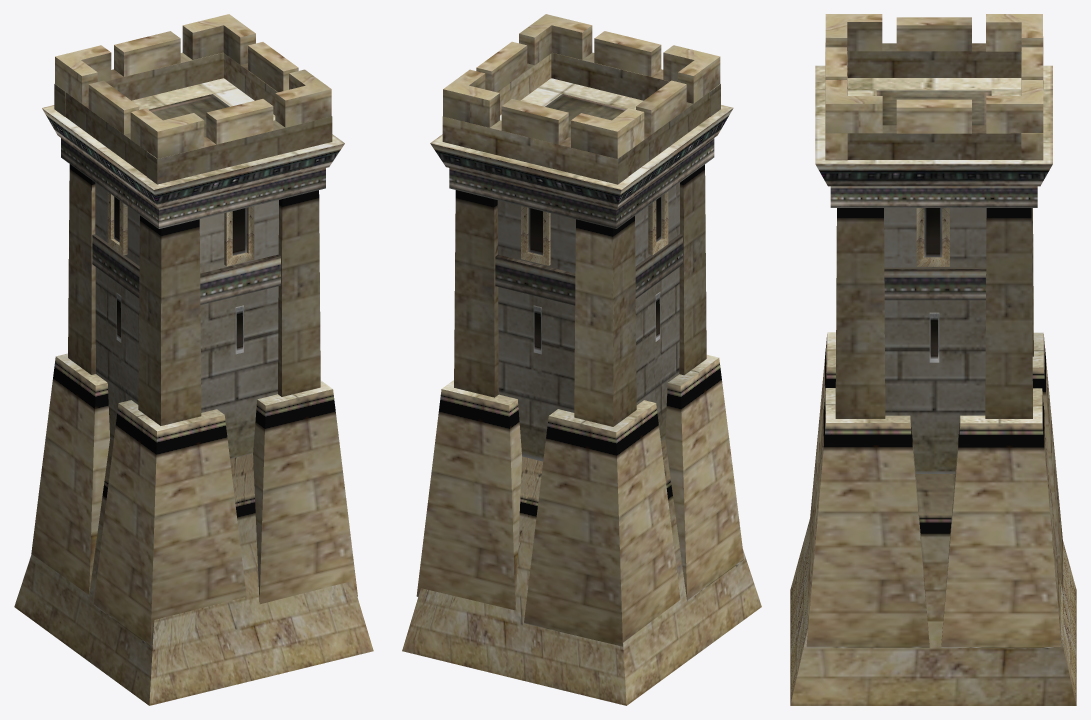
File: cart_wall_tower.glb
3 views of the same model, side by side, from view 1: azimuth 30°, elevation 25°; view 2: azimuth 150°, elevation 25°; view 3: azimuth 270°, elevation 25° (orthographic). The views are drawn at different scales.
Visible parts, largest first — view 1: cart_wall_tower_part0; view 2: cart_wall_tower_part0; view 3: cart_wall_tower_part0.
Part boxes in pixels (box(x1,y1,x2,y2)): cart_wall_tower_part0: box(14, 14, 373, 705); cart_wall_tower_part0: box(402, 14, 761, 705); cart_wall_tower_part0: box(790, 14, 1076, 705).
Size of the model in its own units: 2.11 by 4.99 by 2.2.
2 materials, 2 textured.
